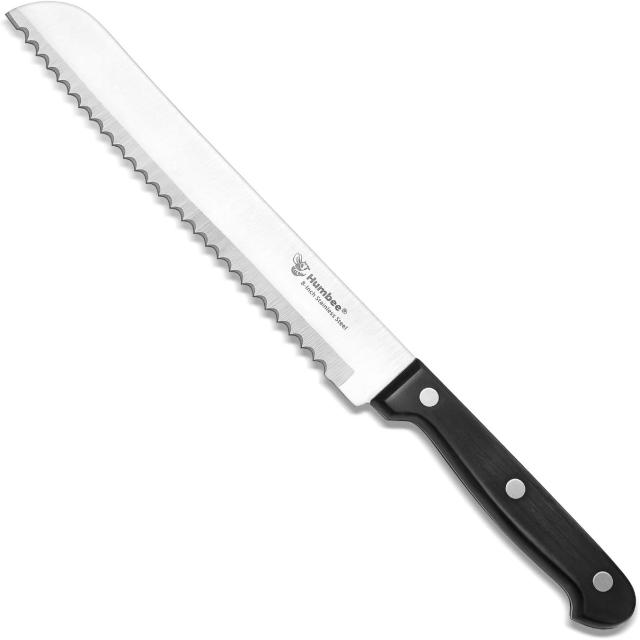Knife: (7, 2, 634, 627)
